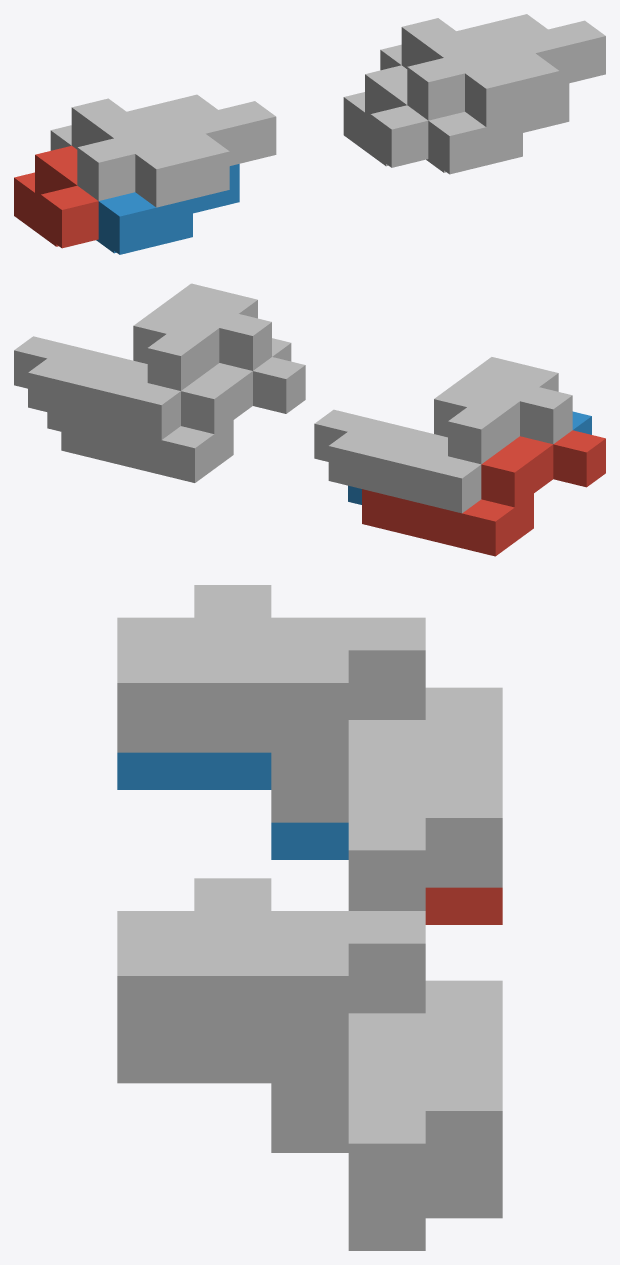
Rendered from tiling.obj.
3 renders of one model, top to bottom at view 1: azimuth 30°, elevation 25°; view 2: azimuth 150°, elevation 25°; view 3: azimuth 270°, elevation 25°, orthographic. The views are drawn at different scales.
Visible parts, largest first — view 1: copy_1_domain_4, copy_1_domain_8, copy_1_domain_3, copy_1_domain_7, copy_1_domain_5, copy_1_domain_1, copy_1_domain_2, copy_1_domain_6; view 2: copy_1_domain_3, copy_1_domain_7, copy_1_domain_5, copy_1_domain_1, copy_1_domain_8, copy_1_domain_4, copy_1_domain_6, copy_1_domain_2; view 3: copy_1_domain_8, copy_1_domain_4, copy_1_domain_3, copy_1_domain_7, copy_1_domain_6, copy_1_domain_2, copy_1_domain_1, copy_1_domain_5.
Part boxes in pixels (x1,y1,x2,y2): copy_1_domain_4: (130,101,276,207); copy_1_domain_8: (459,20,605,126); copy_1_domain_3: (50,94,217,200); copy_1_domain_7: (380,14,547,120); copy_1_domain_5: (343,65,428,167); copy_1_domain_1: (14,145,98,248); copy_1_domain_2: (96,164,239,254); copy_1_domain_6: (426,83,569,174); copy_1_domain_3: (328,379,572,513); copy_1_domain_7: (28,305,271,439); copy_1_domain_5: (61,357,305,482); copy_1_domain_1: (362,430,605,556); copy_1_domain_8: (14,283,257,388); copy_1_domain_4: (314,357,558,461); copy_1_domain_6: (47,338,291,431); copy_1_domain_2: (348,411,591,504); copy_1_domain_8: (117,911,425,1213); copy_1_domain_4: (117,617,425,910); copy_1_domain_3: (194,585,502,887); copy_1_domain_7: (194,878,502,1180); copy_1_domain_6: (117,1046,425,1250); copy_1_domain_2: (117,752,348,859); copy_1_domain_1: (425,887,502,924); copy_1_domain_5: (425,1181,502,1218).
Bounding box in the file's own units: 16 × 3 × 5.
